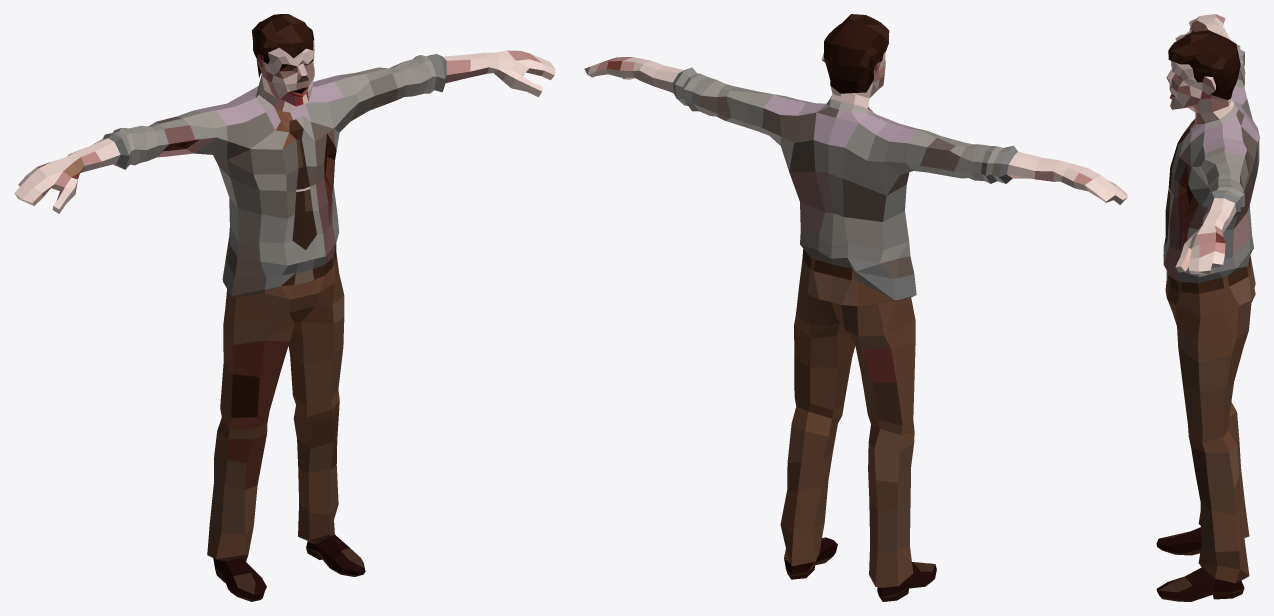
The model's file is ZombieF.fbx.
3 renders of one model, left to right at view 1: azimuth 30°, elevation 25°; view 2: azimuth 150°, elevation 25°; view 3: azimuth 270°, elevation 25°, orthographic. The views are drawn at different scales.
Parts seen in each view (by area): view 1: lpMale_zombie_A; view 2: lpMale_zombie_A; view 3: lpMale_zombie_A.
Part boxes in pixels (bbox=[...]): lpMale_zombie_A: bbox=[14, 14, 555, 601]; lpMale_zombie_A: bbox=[584, 14, 1127, 601]; lpMale_zombie_A: bbox=[1156, 14, 1259, 601].
Size of the model in its own units: 169 by 167 by 28.97.
